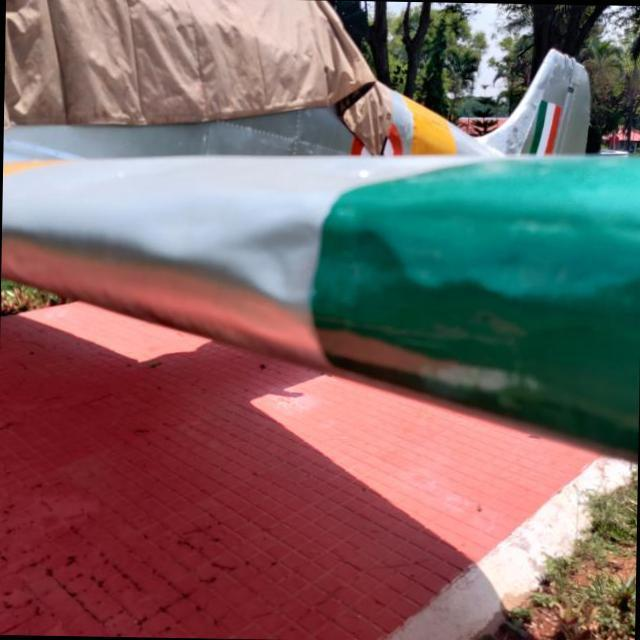Dent: (196, 198, 426, 337)
